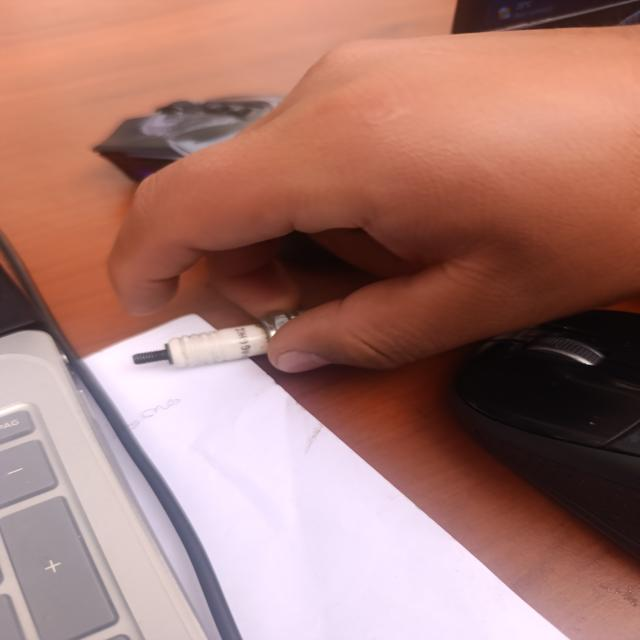bujia: (133, 312, 299, 368)
